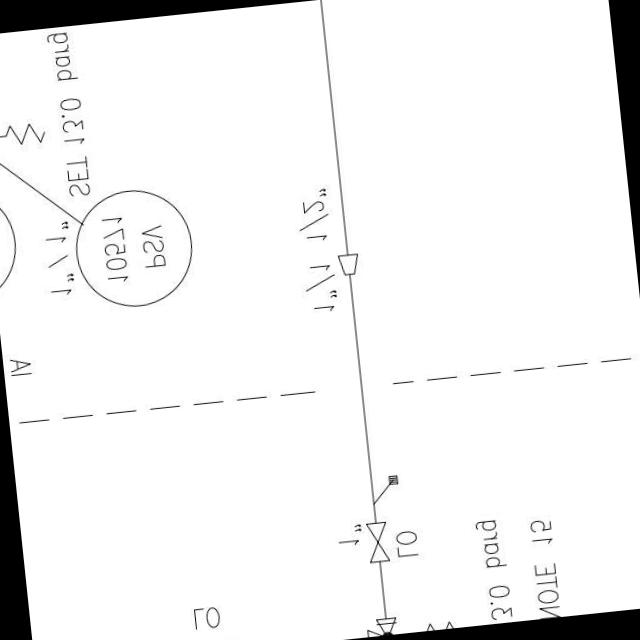GV: (362, 514, 394, 566)
SP: (334, 246, 363, 279)
